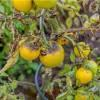tomato late blight: (40, 39, 73, 69), (19, 36, 42, 63)
